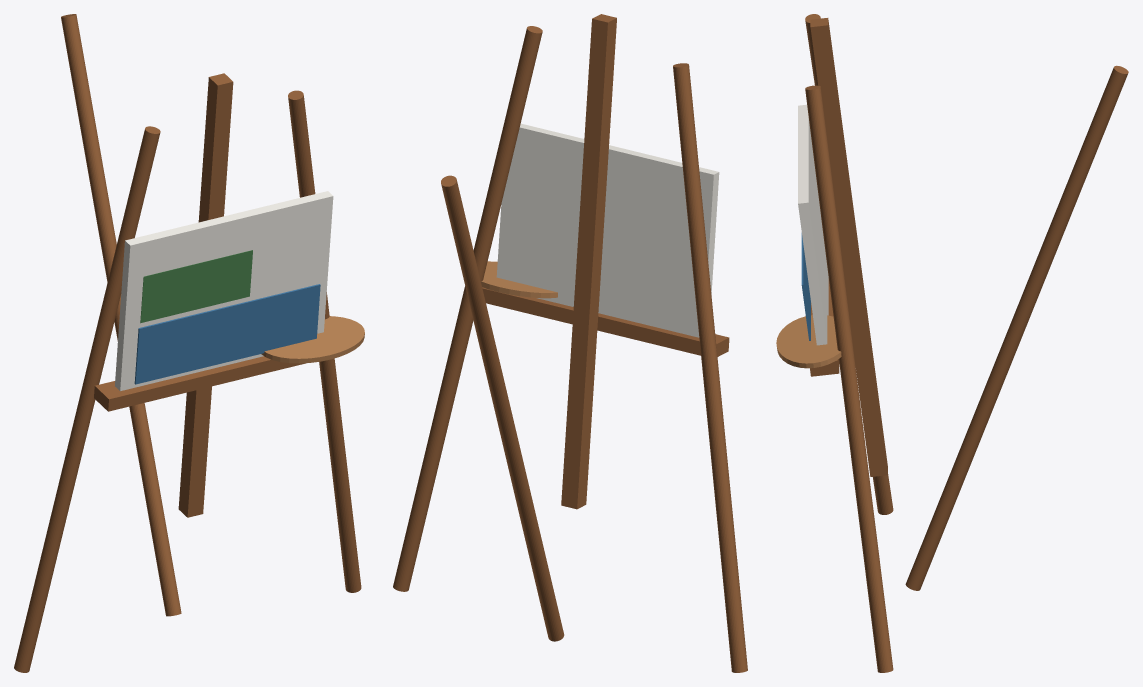
The model's file is painter-easel-canal.glb.
3 views of the same model, side by side, from view 1: azimuth 30°, elevation 25°; view 2: azimuth 150°, elevation 25°; view 3: azimuth 270°, elevation 25° (orthographic). The views are drawn at different scales.
Visible parts, largest first — view 1: Cube.002, Cube.003, Cylinder, Cylinder.002, Cube, Cylinder.001, Cube.004, Cube.001, Cylinder.003; view 2: Cube.002, Cube, Cylinder, Cylinder.001, Cylinder.002, Cube.001, Cylinder.003; view 3: Cylinder.001, Cylinder.002, Cube, Cube.002, Cylinder.003, Cylinder, Cube.003.
Boxes of the visible parts, x1,y1,x2,y2 form: Cube.002: [115, 191, 333, 391]; Cube.003: [134, 284, 320, 384]; Cylinder: [14, 126, 160, 672]; Cylinder.002: [61, 14, 181, 616]; Cube: [178, 73, 233, 517]; Cylinder.001: [288, 90, 361, 592]; Cube.004: [140, 250, 252, 323]; Cube.001: [94, 356, 305, 411]; Cylinder.003: [261, 316, 364, 363]; Cube.002: [496, 123, 719, 337]; Cube: [561, 14, 616, 509]; Cylinder: [673, 63, 747, 672]; Cylinder.001: [393, 26, 542, 591]; Cylinder.002: [441, 175, 564, 641]; Cube.001: [482, 287, 729, 356]; Cylinder.003: [481, 261, 557, 298]; Cylinder.001: [805, 85, 893, 672]; Cylinder.002: [905, 65, 1128, 590]; Cube: [810, 18, 887, 476]; Cube.002: [798, 104, 828, 345]; Cylinder.003: [776, 315, 841, 368]; Cylinder: [805, 14, 893, 514]; Cube.003: [801, 233, 810, 340].
Size of the model in its own units: 1.11 by 1.76 by 0.9863.
